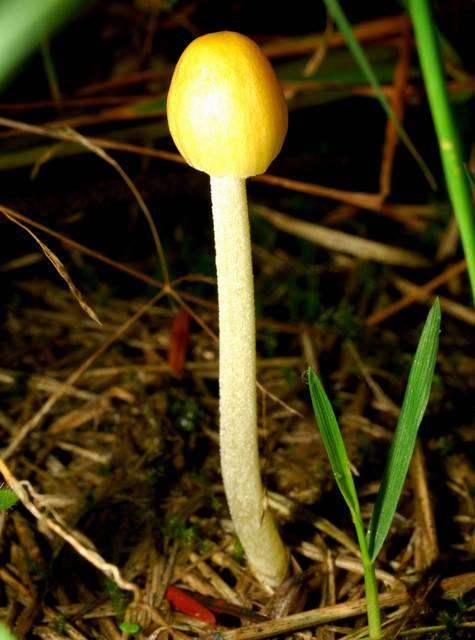Edible Mushroom: (164, 29, 292, 592)
